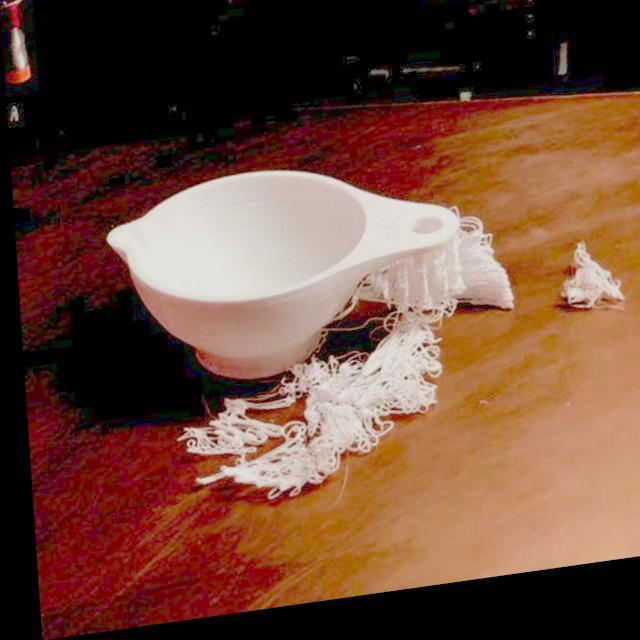spaghetti: (168, 360, 391, 518), (384, 295, 458, 428), (552, 252, 619, 336)
